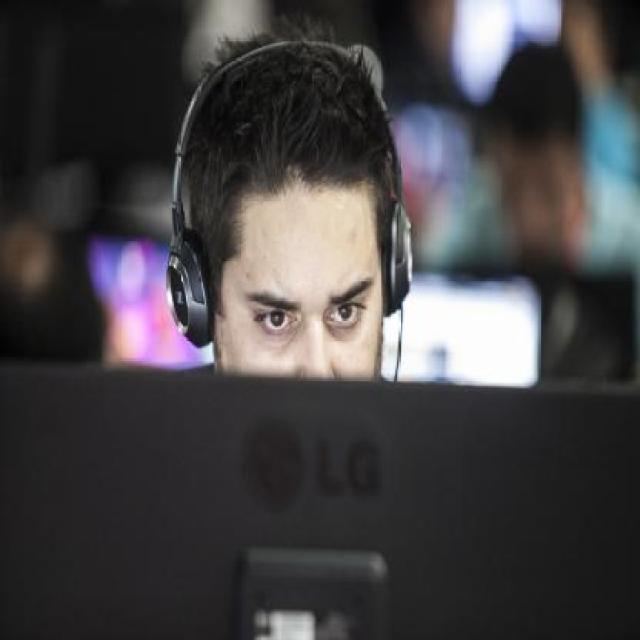earphone: (112, 22, 430, 313)
